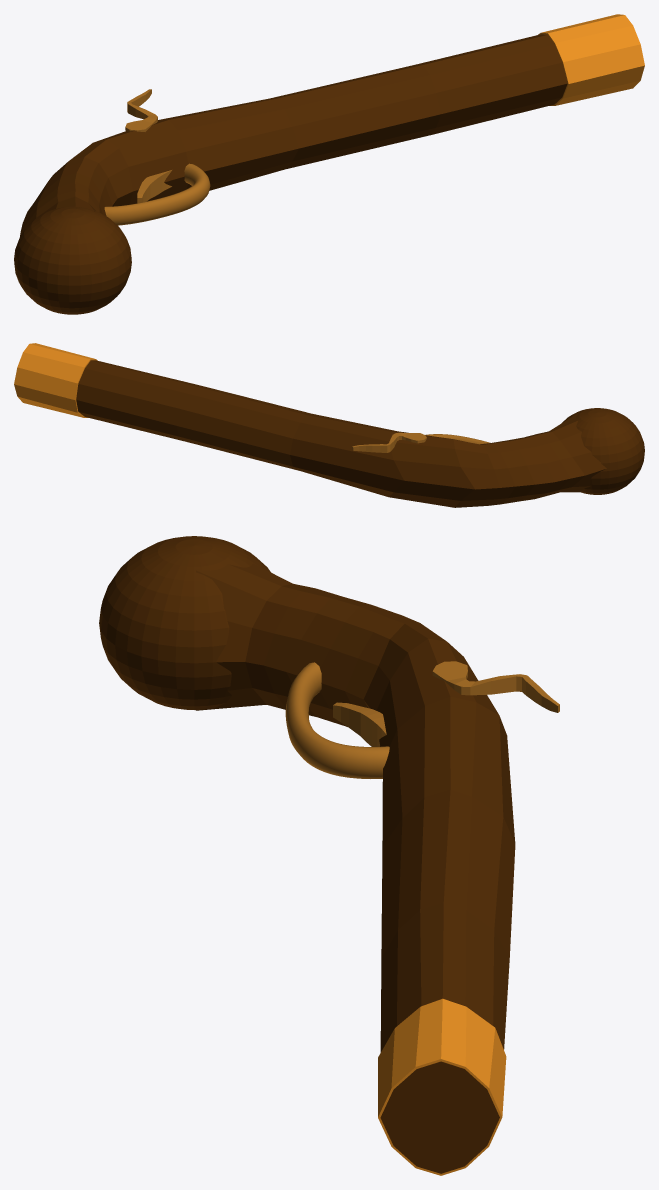
File: FlintlockPistol.fbx
3 views of the same model, one above another, from view 1: azimuth 30°, elevation 25°; view 2: azimuth 150°, elevation 25°; view 3: azimuth 270°, elevation 25° (orthographic). The views are drawn at different scales.
Parts seen in each view (by area): view 1: Sphere, Torus.001, BézierCircle, Cube.001, Cube; view 2: Sphere, Torus.001, Cube.001, BézierCircle; view 3: Sphere, Torus.001, BézierCircle, Cube.001, Cube.
Boxes of the visible parts, x1,y1,x2,y2 form: Sphere: (14,34,567,314); Torus.001: (538,14,644,105); BézierCircle: (104,163,210,225); Cube.001: (125,89,157,131); Cube: (137,170,171,203); Sphere: (76,360,644,507); Torus.001: (14,343,97,417); Cube.001: (352,432,426,452); BézierCircle: (425,434,490,444); Sphere: (99,536,515,1173); Torus.001: (378,998,506,1175); BézierCircle: (285,662,389,778); Cube.001: (432,661,559,712); Cube: (333,702,386,746).
Bounding box in the file's own units: 2682 × 363 × 976.
